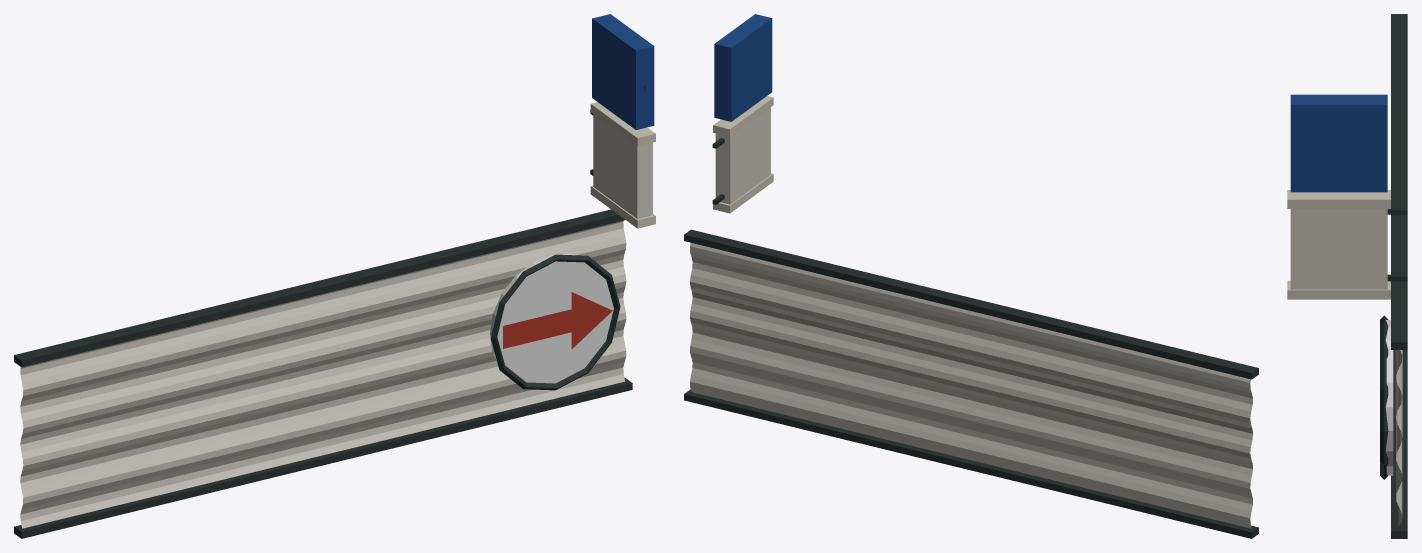
Rendered from bang_giu_xe_thang_48.glb.
The picture shows the model from 3 angles, left to right: view 1: azimuth 30°, elevation 25°; view 2: azimuth 150°, elevation 25°; view 3: azimuth 270°, elevation 25°; orthographic projection. The views are drawn at different scales.
Parts seen in each view (by area): view 1: bang_giu_xe_thang_48; view 2: bang_giu_xe_thang_48; view 3: bang_giu_xe_thang_48.
Part boxes in pixels (<box>): bang_giu_xe_thang_48: <box>14,14,655,538</box>; bang_giu_xe_thang_48: <box>684,14,1258,538</box>; bang_giu_xe_thang_48: <box>1287,14,1407,538</box>.
Bounding box in the file's own units: 4.66 × 2.79 × 0.72.
